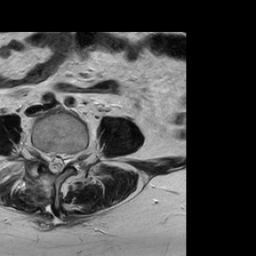CCS_normal: (52, 143, 59, 183)
LFS_normal: (67, 143, 76, 169)
LLS_normal: (59, 143, 67, 174)
RFS_normal: (37, 141, 45, 170)
RLS_normal: (45, 143, 52, 177)
